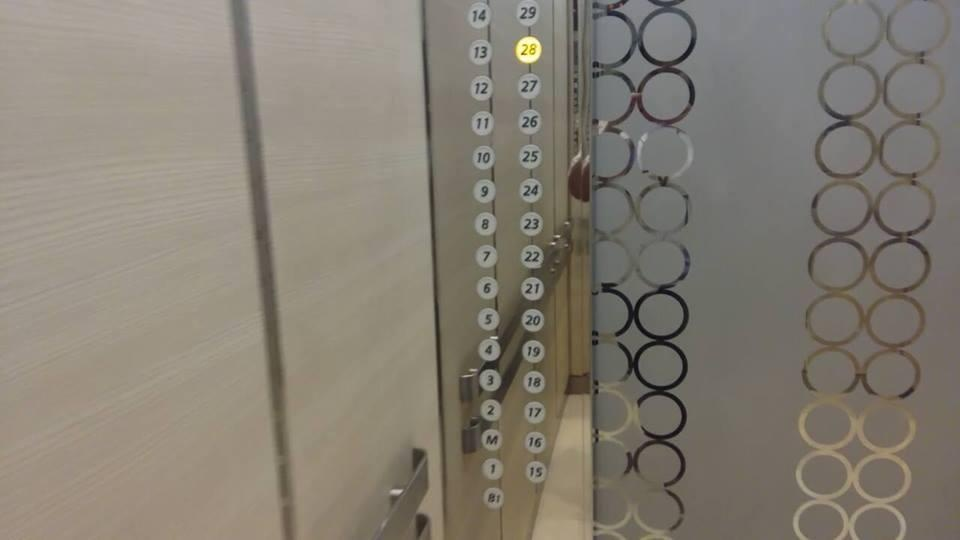1: (481, 455, 505, 483)
10: (469, 144, 497, 173)
11: (468, 110, 496, 138)
12: (468, 75, 495, 103)
13: (467, 38, 495, 66)
14: (465, 1, 493, 31)
15: (523, 460, 549, 486)
16: (523, 430, 548, 456)
17: (521, 399, 547, 426)
18: (521, 369, 545, 397)
19: (520, 338, 547, 366)
2: (478, 398, 504, 423)
20: (520, 307, 546, 335)
21: (519, 275, 545, 303)
22: (518, 242, 545, 271)
23: (517, 209, 544, 238)
24: (517, 177, 544, 205)
25: (517, 142, 544, 172)
26: (515, 107, 543, 138)
27: (515, 72, 542, 102)
28: (513, 35, 543, 66)
29: (513, 1, 542, 28)
3: (477, 368, 504, 394)
4: (476, 336, 503, 364)
5: (475, 307, 501, 332)
6: (474, 275, 500, 301)
7: (473, 243, 499, 268)
8: (471, 211, 499, 238)
9: (470, 178, 497, 205)
B1: (480, 485, 507, 512)
M: (480, 427, 504, 452)
